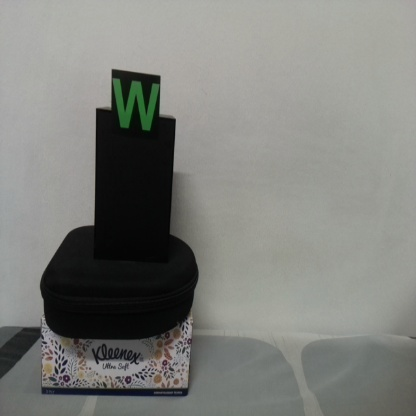id_12: (111, 68, 161, 147)
